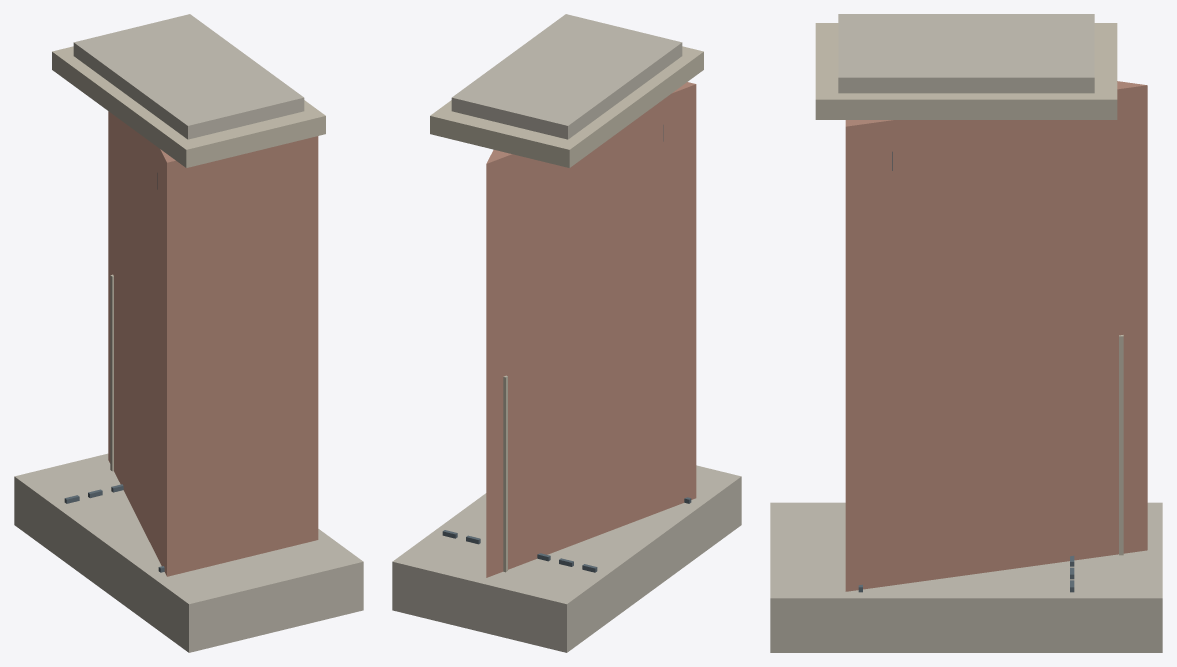
The model's file is flatiron.glb.
The picture shows the model from 3 angles, left to right: view 1: azimuth 30°, elevation 25°; view 2: azimuth 150°, elevation 25°; view 3: azimuth 270°, elevation 25°; orthographic projection. The views are drawn at different scales.
Visible parts, largest first — view 1: Mesh; view 2: Mesh; view 3: Mesh.
Boxes of the visible parts, x1,y1,x2,y2 form: Mesh: (14,14,363,652); Mesh: (392,14,741,652); Mesh: (770,14,1162,652).
Bounding box in the file's own units: 30 × 81.75 × 52.
